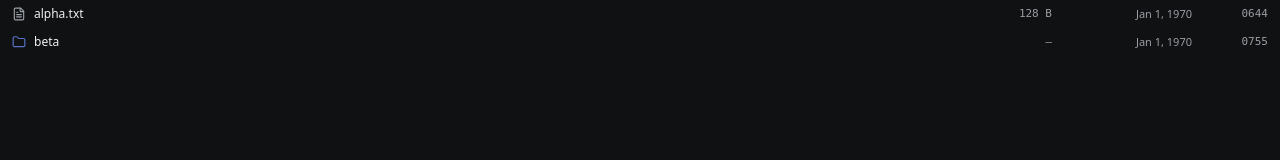
Test case: FileTable background menu › hides the reveal action on panes without a local file manager
Right-click the table named "Folder contents": x=59, y=14 [0,0,1279,56]
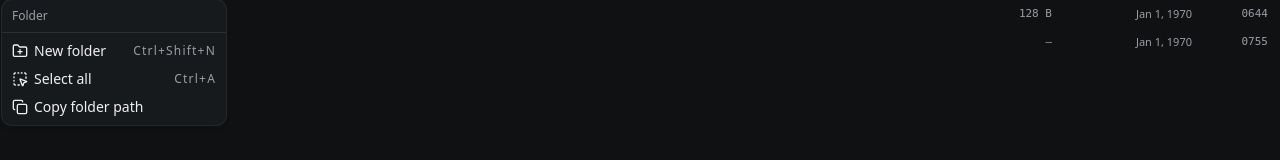
Check: the menu item "New folder Ctrl+Shift+N" is shown, box [6,37,222,65]
